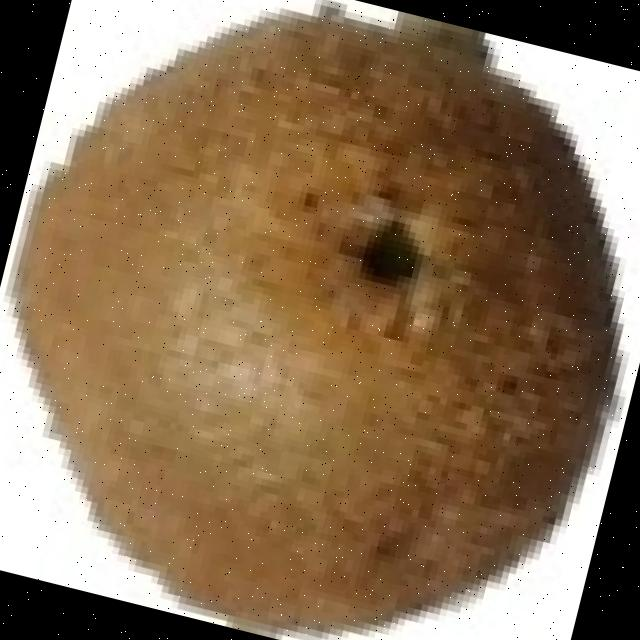kiwi: (14, 13, 616, 627)
